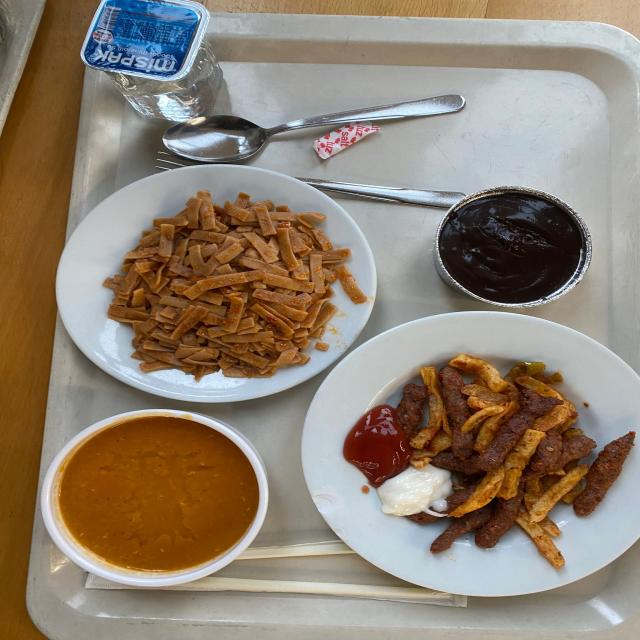ana_yemek: (367, 338, 632, 584), (104, 172, 356, 386)
corba: (50, 413, 267, 602)
